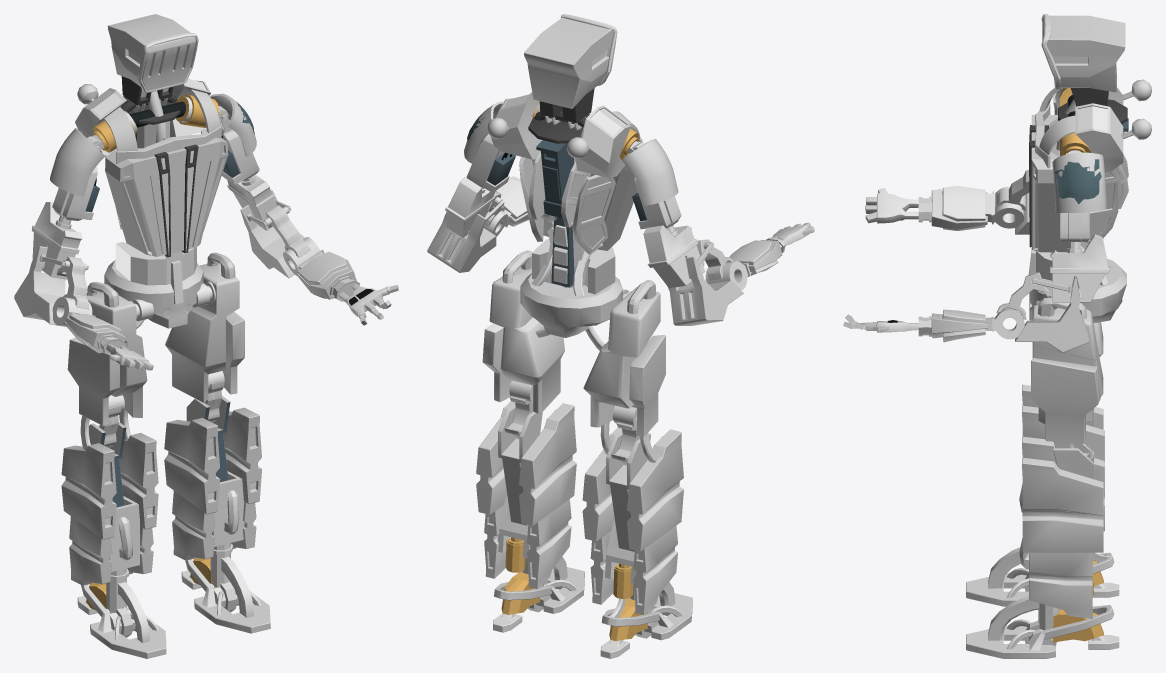
The model's file is Orion_1.fbx.
3 views of the same model, side by side, from view 1: azimuth 30°, elevation 25°; view 2: azimuth 150°, elevation 25°; view 3: azimuth 270°, elevation 25° (orthographic). The views are drawn at different scales.
Parts seen in each view (by area): view 1: Cube.002; view 2: Cube.002; view 3: Cube.002.
Part boxes in pixels (x1=…): Cube.002: x1=14, y1=14, x2=398, y2=658; Cube.002: x1=427, y1=14, x2=814, y2=658; Cube.002: x1=843, y1=14, x2=1151, y2=658.
Size of the model in its own units: 97.51 by 190 by 88.44.
